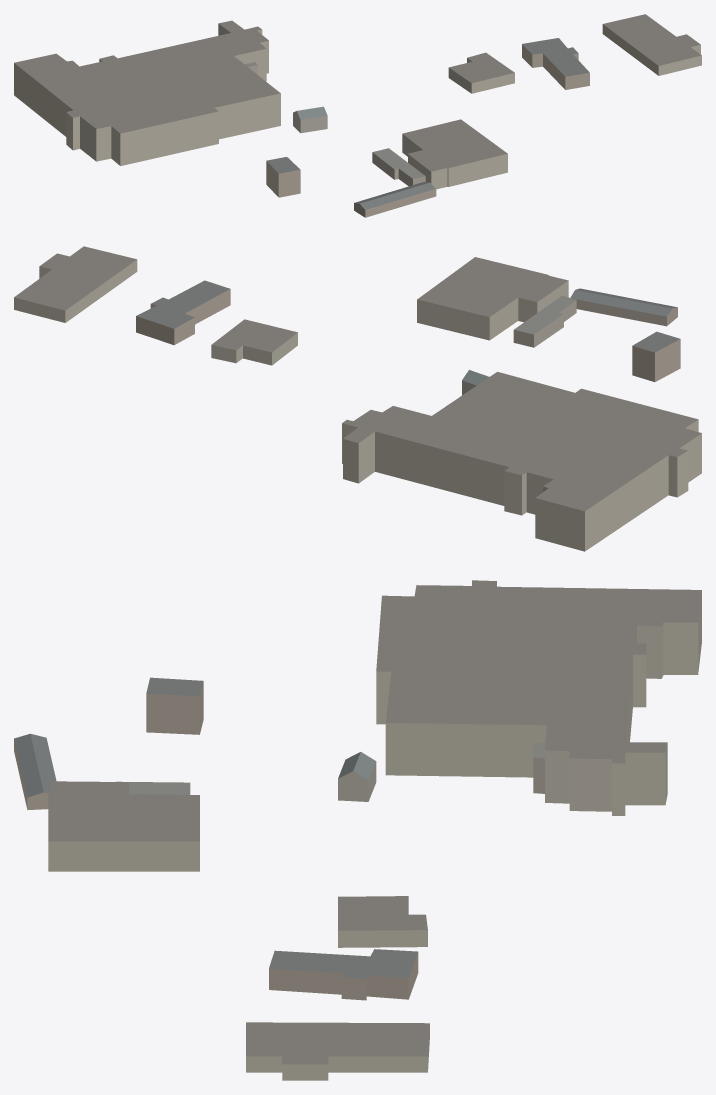
The model's file is 09e46b8b654d-chunk-1201_11837.glb.
3 views of the same model, one above another, from view 1: azimuth 30°, elevation 25°; view 2: azimuth 150°, elevation 25°; view 3: azimuth 270°, elevation 25° (orthographic). The views are drawn at different scales.
Parts seen in each view (by area): view 1: building_13435, building_117923, building_97201, building_106764, building_66600, building_171614, building_37301, building_44514, building_157652; view 2: building_13435, building_117923, building_97201, building_106764, building_66600, building_171614, building_37301, building_44514; view 3: building_13435, building_117923, building_97201, building_106764, building_66600, building_37301, building_171614, building_157652, building_44514.
Boxes of the visible parts, bbox=[...] form: building_13435: bbox=[14, 20, 280, 165]; building_117923: bbox=[402, 119, 507, 189]; building_97201: bbox=[602, 14, 701, 75]; building_106764: bbox=[522, 38, 589, 89]; building_66600: bbox=[448, 52, 514, 93]; building_171614: bbox=[354, 182, 436, 217]; building_37301: bbox=[266, 157, 300, 197]; building_44514: bbox=[372, 148, 425, 186]; building_157652: bbox=[293, 106, 327, 133]; building_13435: bbox=[342, 372, 701, 551]; building_117923: bbox=[417, 257, 568, 340]; building_97201: bbox=[14, 246, 137, 322]; building_106764: bbox=[136, 280, 230, 345]; building_66600: bbox=[211, 319, 297, 365]; building_171614: bbox=[570, 288, 677, 326]; building_37301: bbox=[632, 331, 680, 381]; building_44514: bbox=[513, 295, 576, 347]; building_13435: bbox=[376, 580, 701, 815]; building_117923: bbox=[48, 781, 199, 871]; building_97201: bbox=[246, 1022, 429, 1080]; building_106764: bbox=[269, 949, 418, 1000]; building_66600: bbox=[338, 896, 427, 947]; building_37301: bbox=[146, 677, 203, 734]; building_171614: bbox=[14, 733, 56, 810]; building_157652: bbox=[338, 752, 376, 801]; building_44514: bbox=[116, 781, 190, 794].
Size of the model in its own units: 249 by 13.62 by 162.
